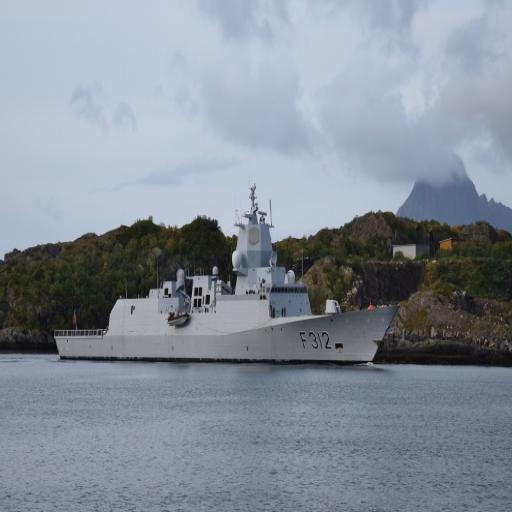Fragata: (52, 176, 402, 369)
